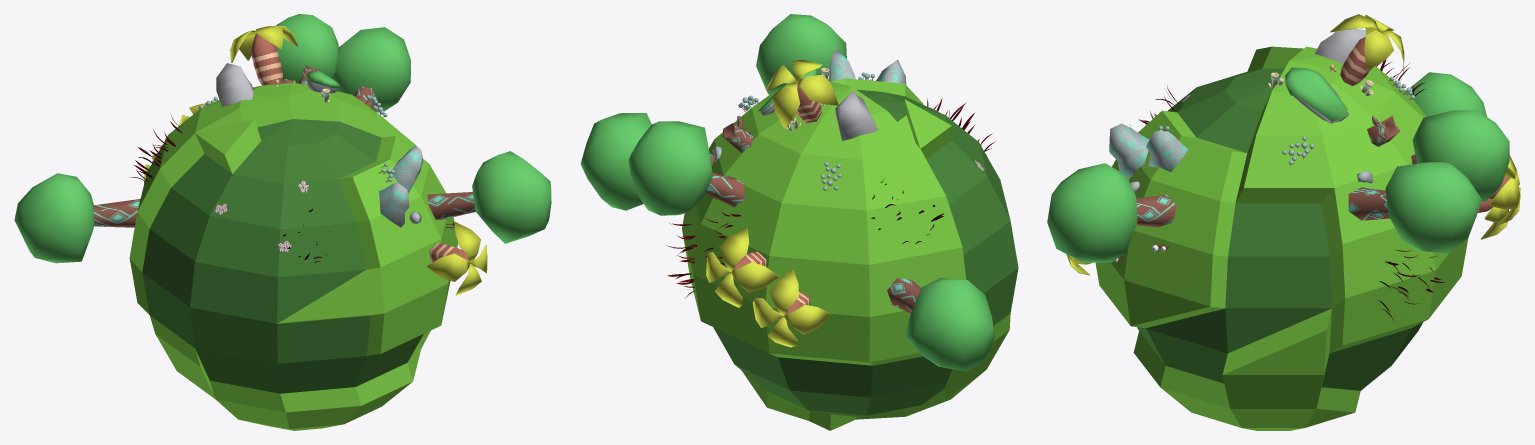
File: Grass_planet.fbx
3 views of the same model, side by side, from view 1: azimuth 30°, elevation 25°; view 2: azimuth 150°, elevation 25°; view 3: azimuth 270°, elevation 25° (orthographic). The views are drawn at different scales.
Parts seen in each view (by area): view 1: Sphere; view 2: Sphere; view 3: Sphere.
Boxes of the visible parts, x1,y1,x2,y2 form: Sphere: [14, 14, 551, 430]; Sphere: [580, 14, 1018, 430]; Sphere: [1047, 14, 1520, 430].
Size of the model in its own units: 285 by 256 by 274.
